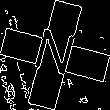N_S: (29, 26, 81, 84)
